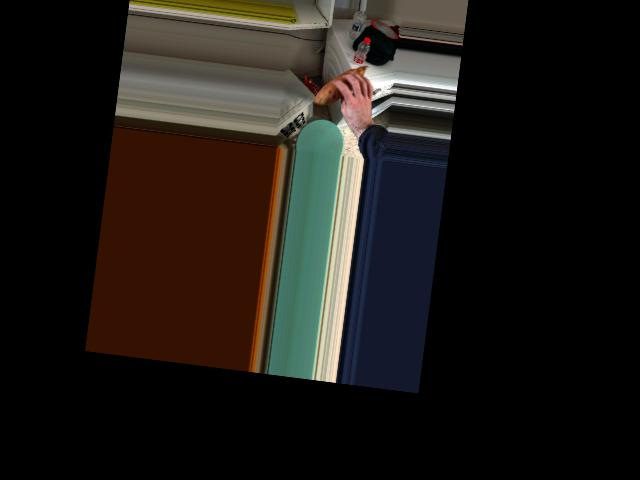sweet_potato: (316, 61, 371, 109)
